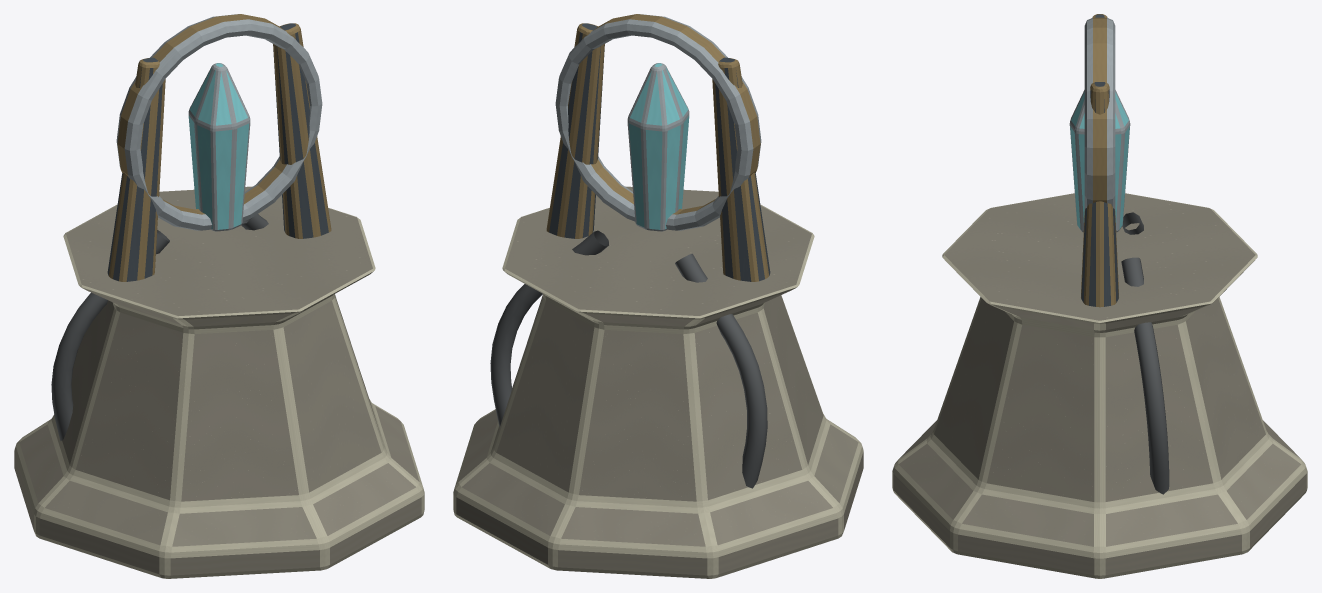
Rendered from reliquary.glb.
The picture shows the model from 3 angles, left to right: view 1: azimuth 30°, elevation 25°; view 2: azimuth 150°, elevation 25°; view 3: azimuth 270°, elevation 25°; orthographic projection. The views are drawn at different scales.
Visible parts, largest first — view 1: GT_0130_reliquary; view 2: GT_0130_reliquary; view 3: GT_0130_reliquary.
Part boxes in pixels (x1=…): GT_0130_reliquary: x1=14, y1=14, x2=424, y2=578; GT_0130_reliquary: x1=453, y1=14, x2=863, y2=578; GT_0130_reliquary: x1=892, y1=14, x2=1307, y2=578.
Size of the model in its own units: 2.68 by 3.32 by 2.68.
Materials: 1 (1 with a texture image).
